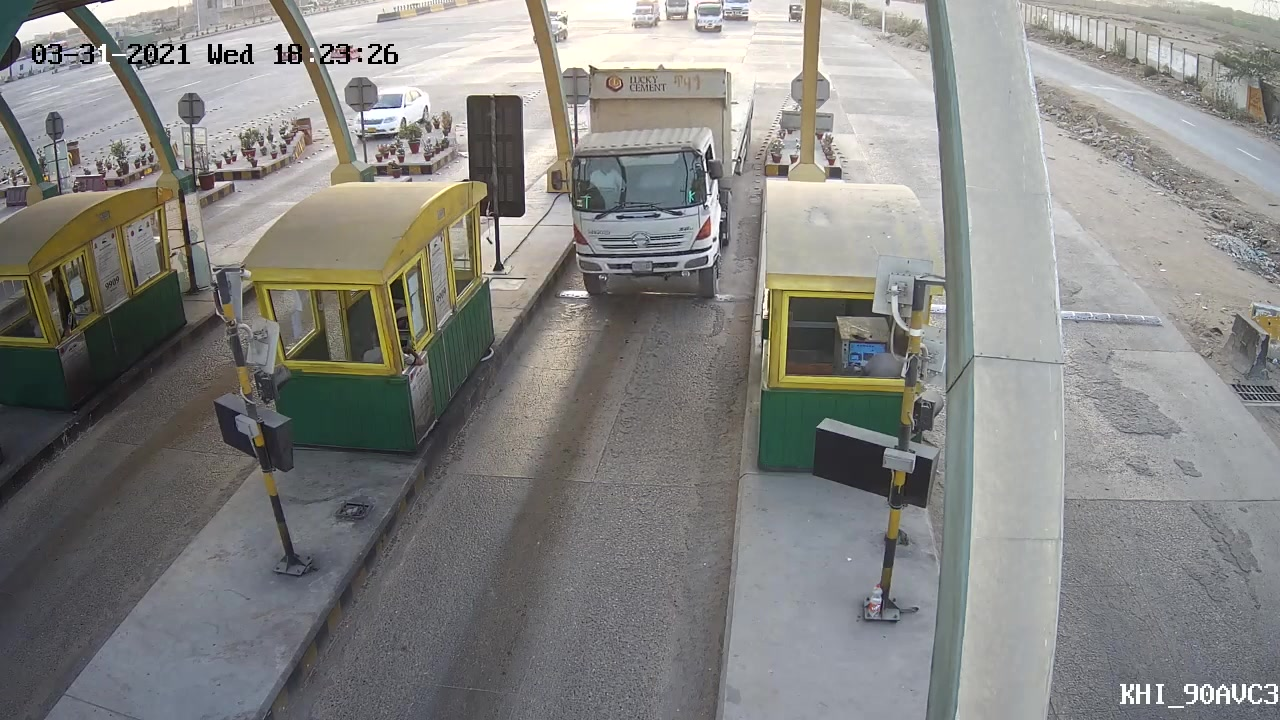F6: (540, 54, 752, 300)
